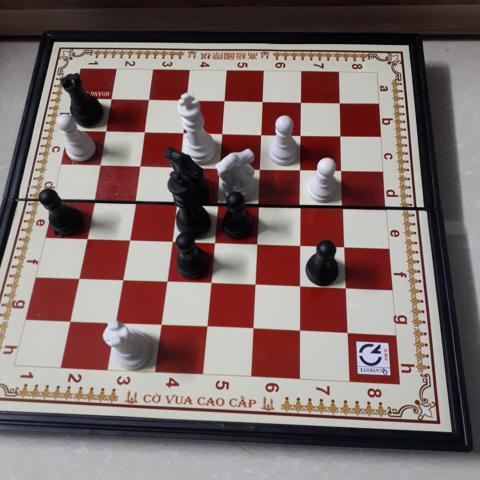xcorner: (211, 158, 227, 175), (125, 192, 142, 208), (162, 231, 178, 248), (119, 230, 136, 246), (332, 95, 348, 111), (293, 95, 309, 111), (255, 94, 271, 110), (216, 93, 232, 109), (179, 92, 195, 108), (141, 91, 157, 107), (104, 90, 120, 106), (333, 128, 349, 144), (293, 127, 309, 143), (253, 126, 269, 142), (214, 125, 230, 141), (175, 124, 191, 140), (136, 123, 152, 139), (98, 122, 114, 138), (334, 162, 350, 178), (292, 161, 308, 177), (252, 160, 268, 176), (171, 157, 187, 173), (131, 156, 147, 172), (92, 155, 108, 171), (335, 199, 351, 215), (292, 197, 308, 213), (250, 196, 266, 212), (208, 195, 224, 211), (167, 193, 183, 209), (85, 190, 101, 206), (336, 238, 352, 254), (292, 236, 308, 252), (248, 235, 264, 251), (205, 233, 221, 249), (77, 228, 93, 244), (337, 280, 353, 296), (291, 278, 307, 294), (246, 276, 262, 292), (201, 274, 217, 290), (157, 273, 173, 289), (113, 271, 129, 287), (70, 269, 86, 285), (339, 325, 355, 341), (291, 323, 307, 339), (244, 321, 260, 337), (198, 319, 214, 335), (152, 317, 168, 333), (106, 314, 122, 330), (61, 312, 77, 328)
